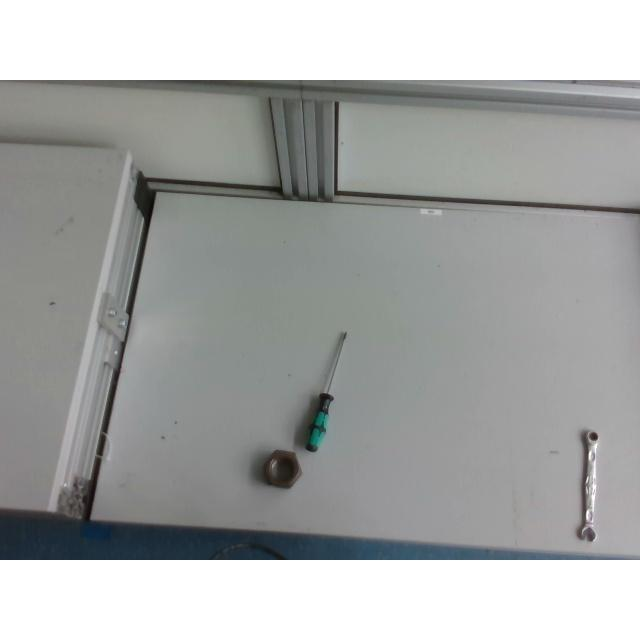M30: (262, 448, 304, 489)
Screwdriver: (306, 330, 346, 450)
Wrench: (576, 429, 600, 543)
